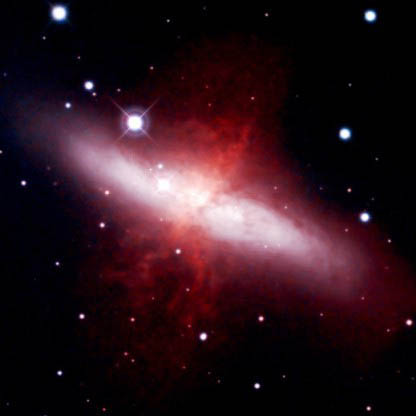Messier 82: (27, 81, 398, 332)
